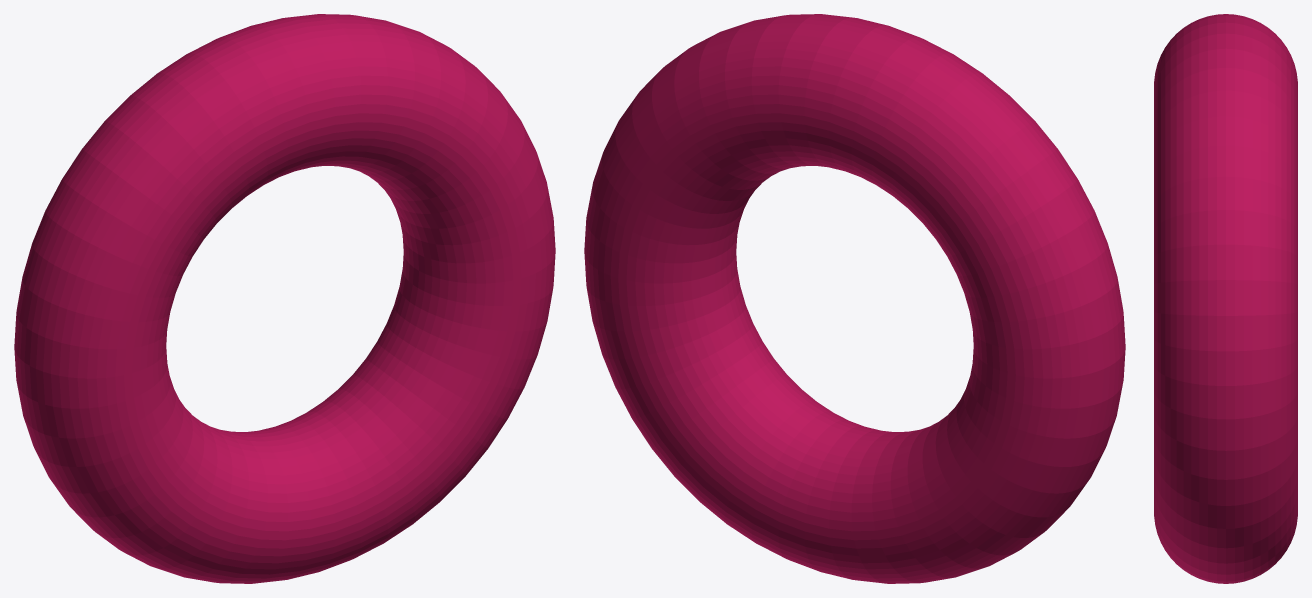
The picture shows the model from 3 angles, left to right: view 1: azimuth 30°, elevation 25°; view 2: azimuth 150°, elevation 25°; view 3: azimuth 270°, elevation 25°; orthographic projection. The views are drawn at different scales.
Visible parts, largest first — view 1: world; view 2: world; view 3: world.
Part boxes in pixels (x1=…): world: x1=14, y1=14, x2=555, y2=583; world: x1=584, y1=14, x2=1125, y2=583; world: x1=1154, y1=14, x2=1297, y2=583.
Bounding box in the file's own units: 37.47 × 37.39 × 9.45.
